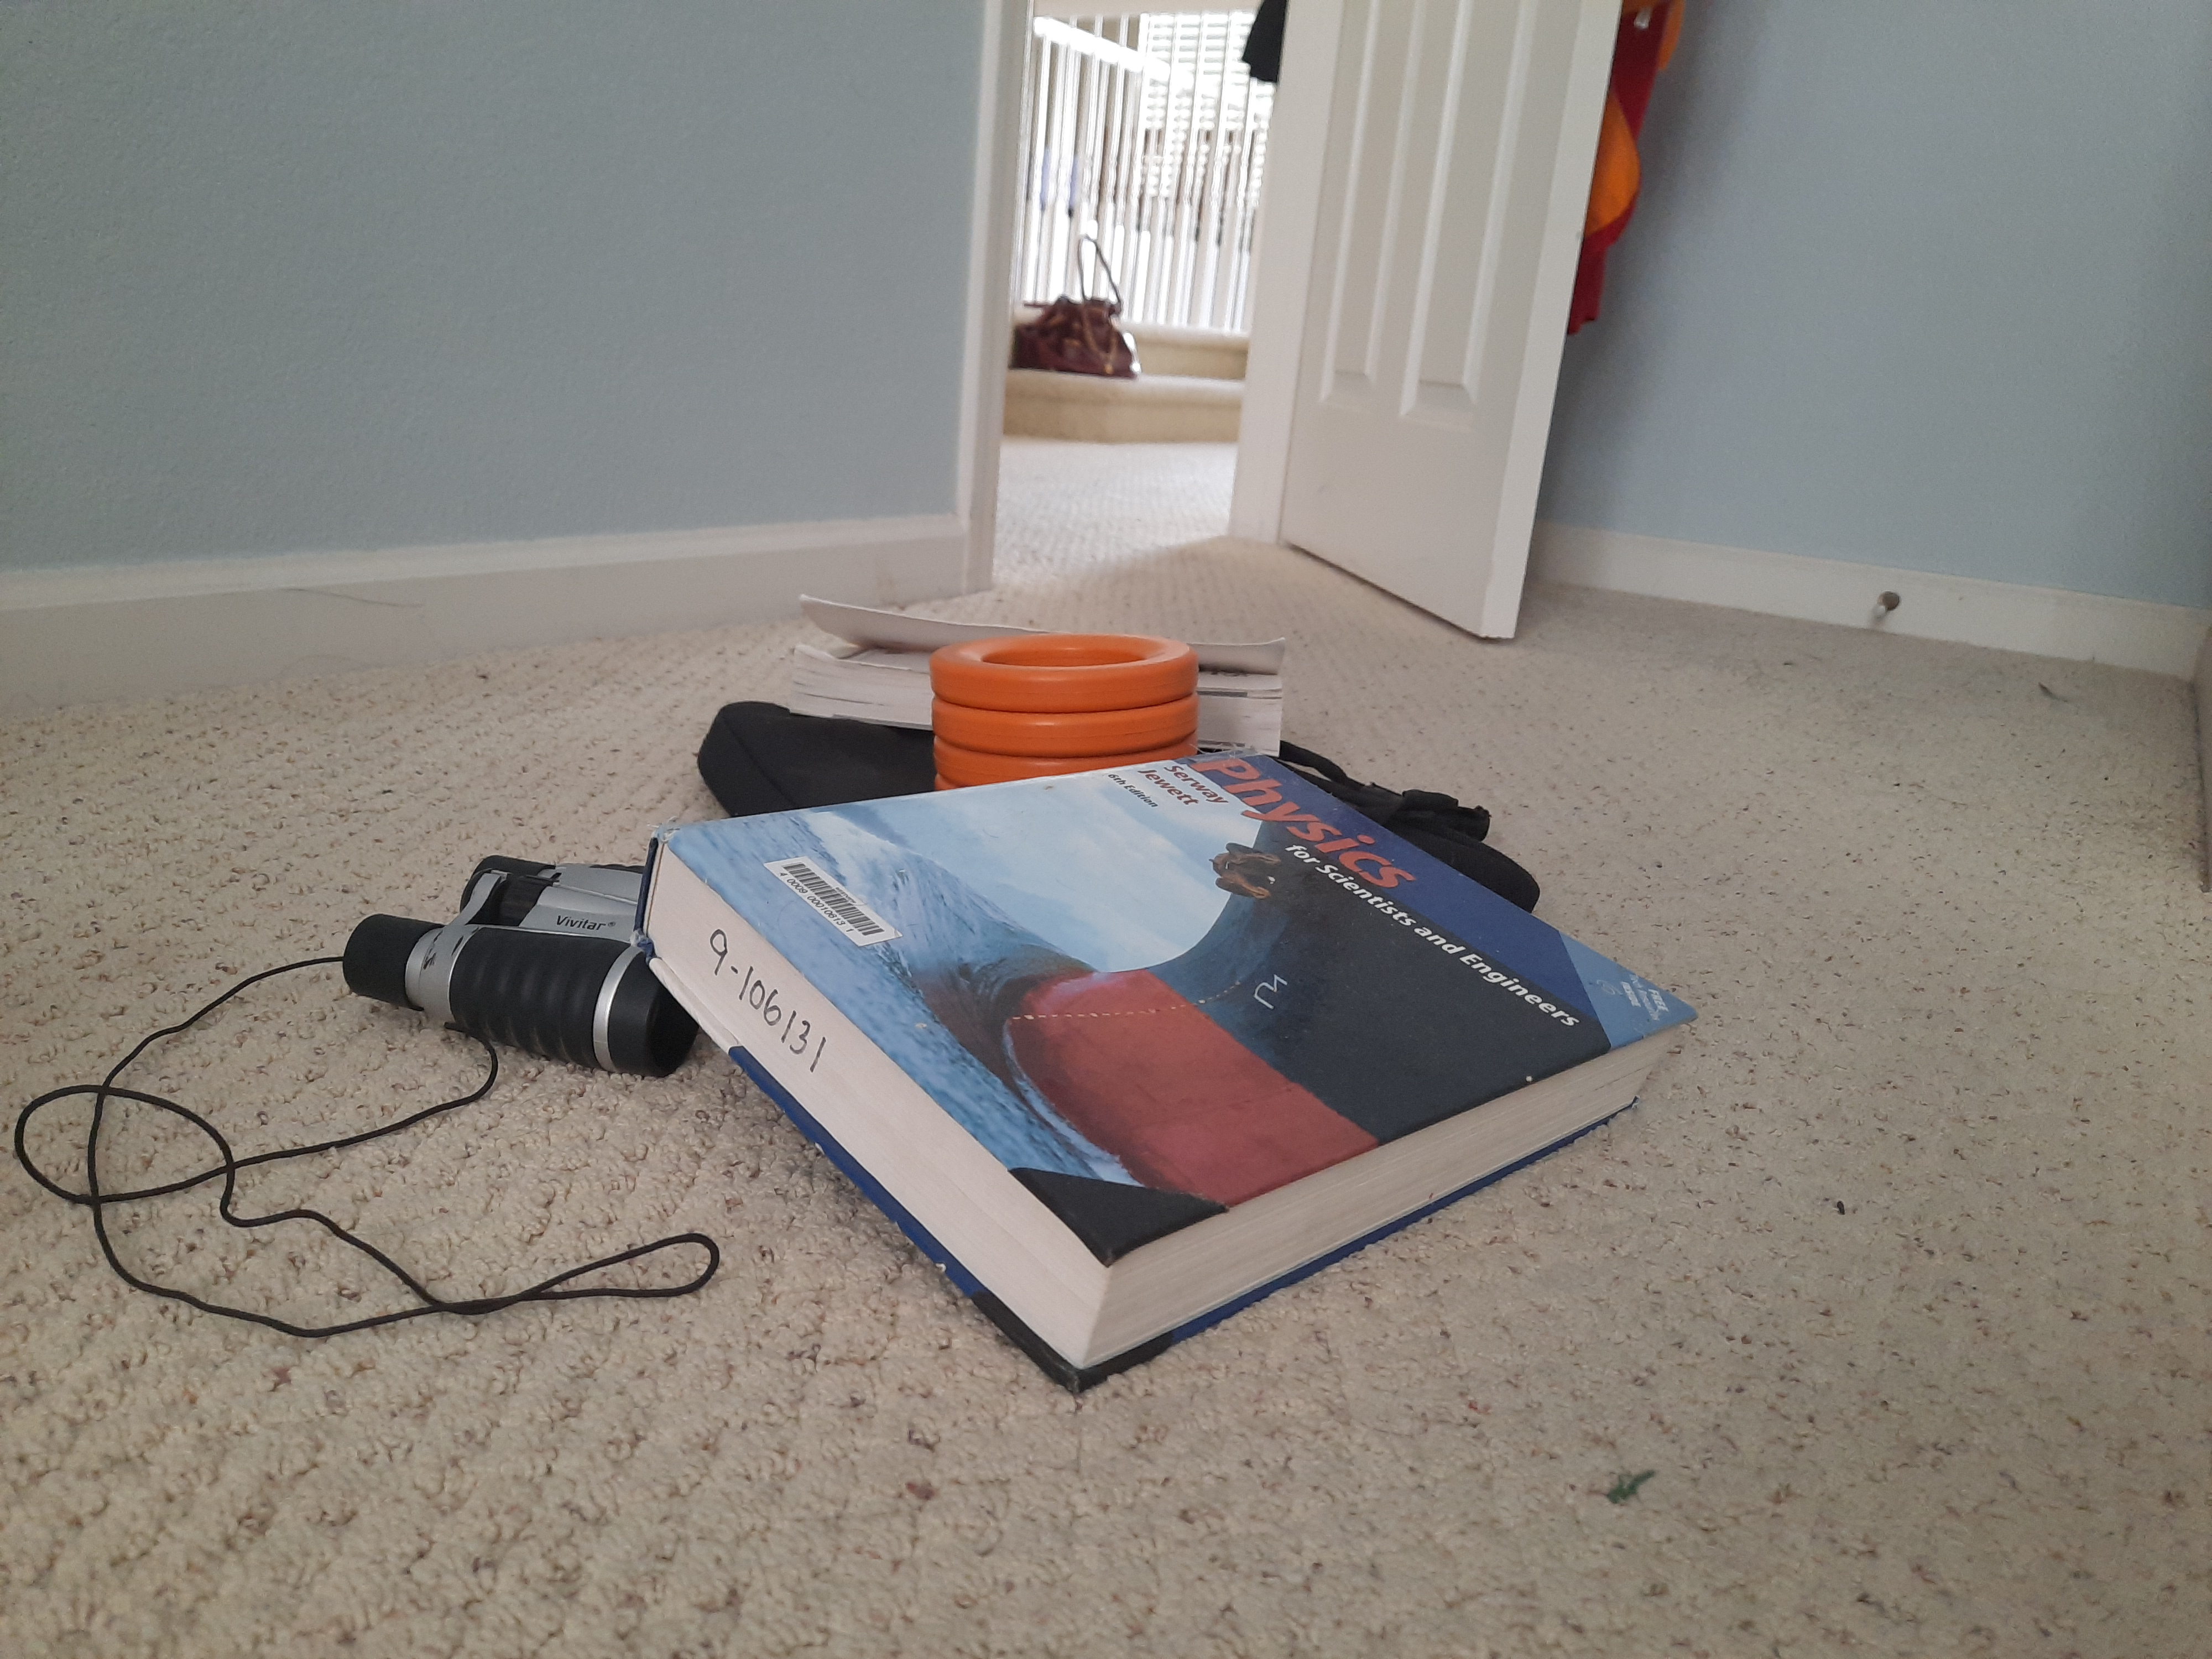FourStack: (934, 634, 1195, 762)
